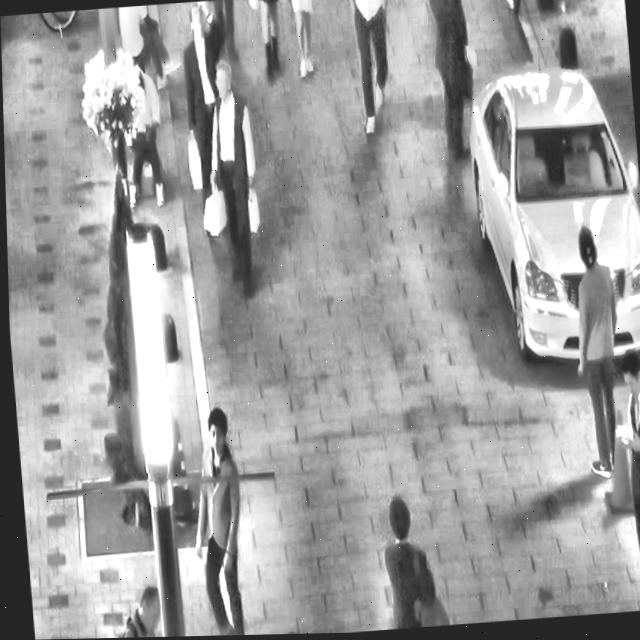light_vehicle: (456, 46, 640, 381)
